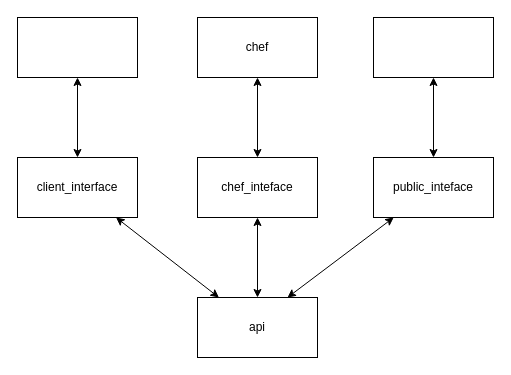
The diagram is 511 pixels wide and 375 high, and some of its shapes have lost their labels. Each missing label, with the box of its shape:
all_clients: (372, 16, 494, 78)
Client: (16, 16, 138, 78)
